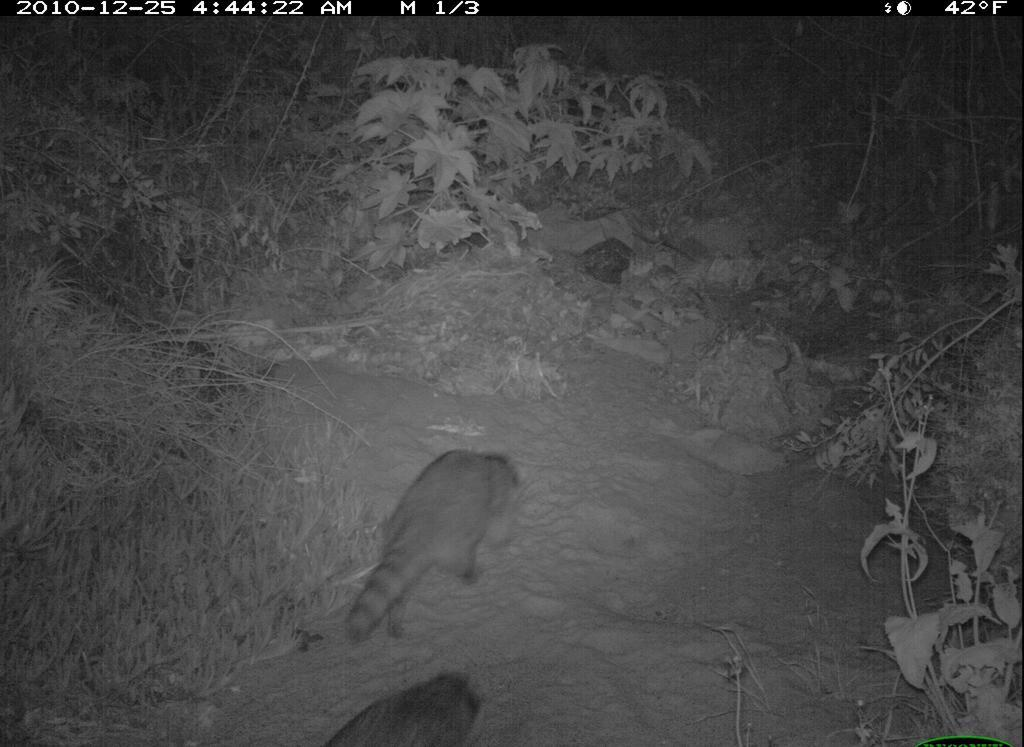raccoon: (340, 445, 527, 652), (321, 666, 482, 747)
